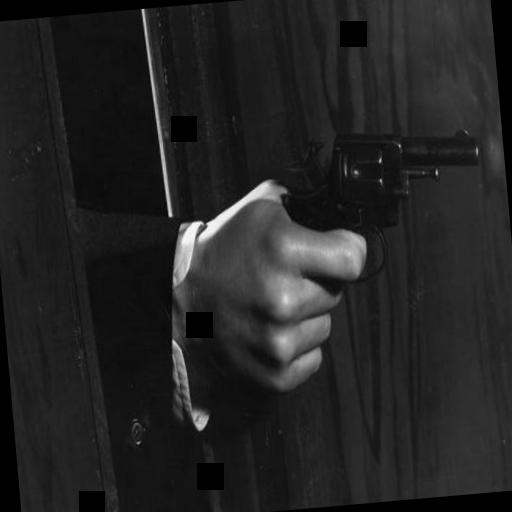Handgun: (257, 122, 491, 290)
